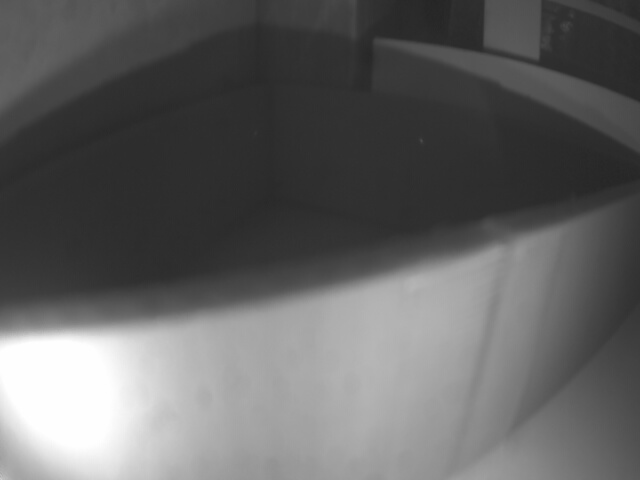Green: (0, 187, 637, 480)
